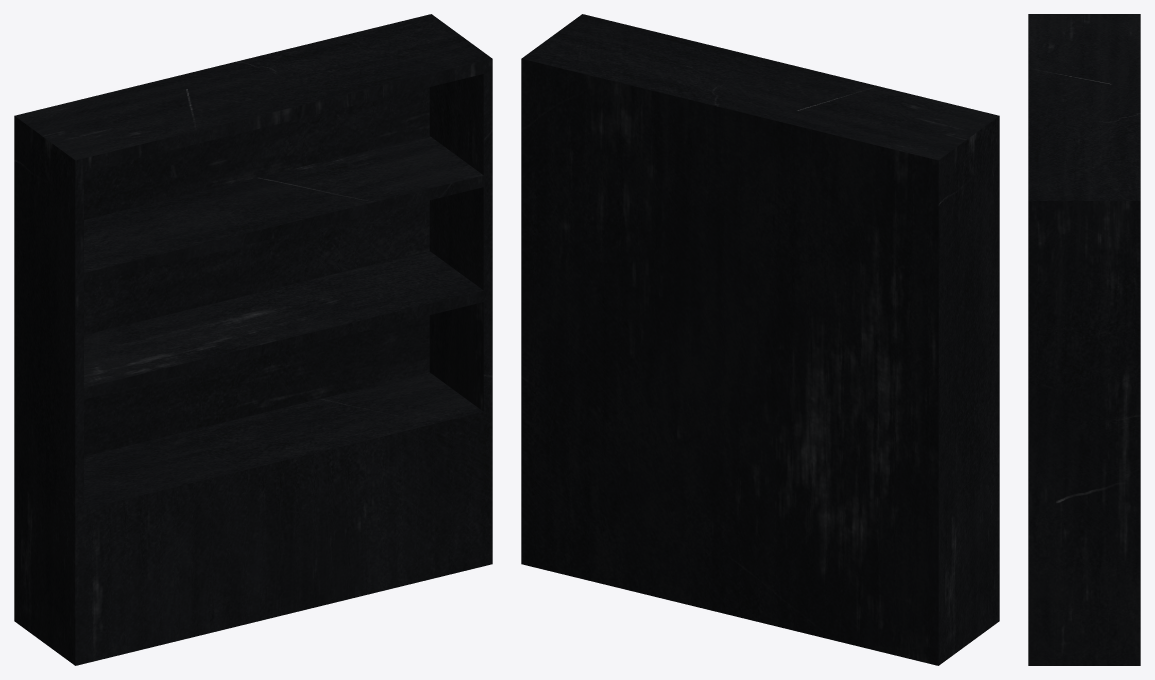
Rendered from baojiazi.fbx.
3 renders of one model, left to right at view 1: azimuth 30°, elevation 25°; view 2: azimuth 150°, elevation 25°; view 3: azimuth 270°, elevation 25°, orthographic. The views are drawn at different scales.
Parts seen in each view (by area): view 1: baojiazi; view 2: baojiazi; view 3: baojiazi.
Part boxes in pixels (<box>): baojiazi: <box>14,14,492,665</box>; baojiazi: <box>521,14,999,665</box>; baojiazi: <box>1028,14,1140,665</box>.
Size of the model in its own units: 233 by 269 by 58.97.
